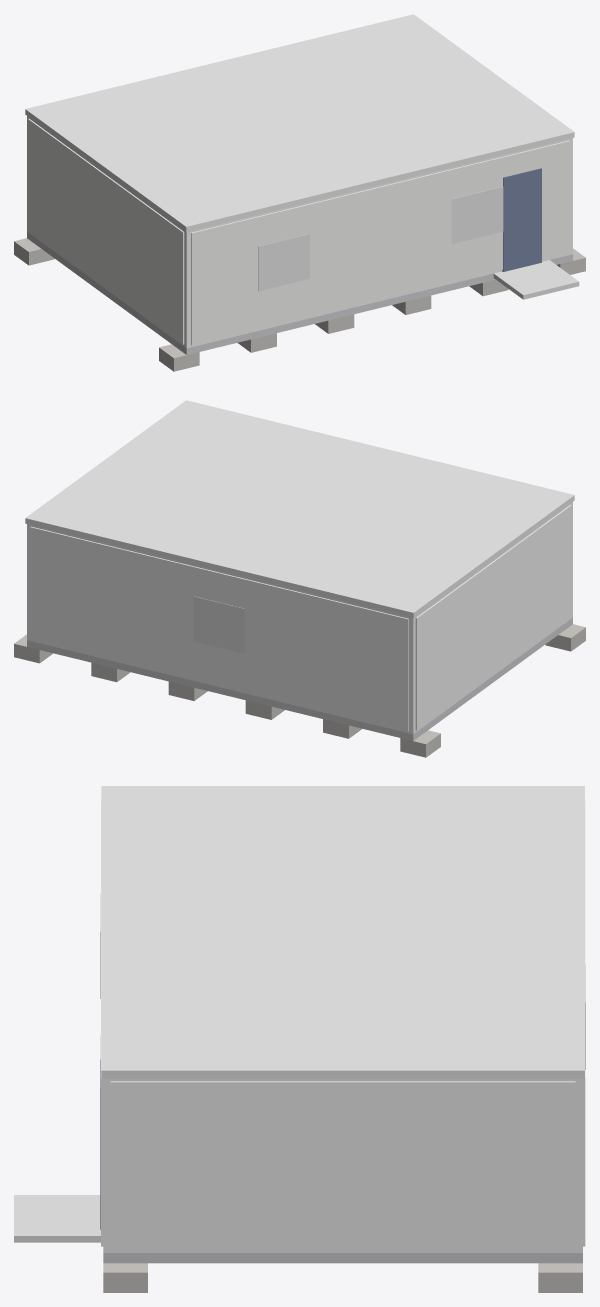
The model's file is Studio-30-Retirement-LOD0.glb.
3 renders of one model, top to bottom at view 1: azimuth 30°, elevation 25°; view 2: azimuth 150°, elevation 25°; view 3: azimuth 270°, elevation 25°, orthographic. The views are drawn at different scales.
Parts seen in each view (by area): view 1: RoofMain, ExteriorPanelsStandard, WindowsStandard, EntryDoor, FoundationBlocks, BaseFrame, ExteriorShell, AccessibilityRetirement; view 2: RoofMain, ExteriorPanelsStandard, BaseFrame, FoundationBlocks, ExteriorShell, WindowsStandard; view 3: RoofMain, ExteriorPanelsStandard, ExteriorShell, BaseFrame, AccessibilityRetirement, FoundationBlocks.
Part boxes in pixels (box(x1,y1,x2,y2)): RoofMain: box(25, 14, 574, 232); ExteriorPanelsStandard: box(28, 118, 569, 345); WindowsStandard: box(258, 186, 503, 291); EntryDoor: box(502, 168, 541, 271); FoundationBlocks: box(14, 238, 585, 371); BaseFrame: box(27, 232, 572, 354); ExteriorShell: box(27, 116, 572, 348); AccessibilityRetirement: box(493, 260, 579, 299); RoofMain: box(25, 400, 574, 618); ExteriorPanelsStandard: box(30, 504, 571, 731); BaseFrame: box(27, 618, 572, 740); FoundationBlocks: box(14, 624, 585, 757); ExteriorShell: box(27, 502, 572, 734); WindowsStandard: box(193, 596, 244, 653); RoofMain: box(101, 786, 584, 1078); ExteriorPanelsStandard: box(101, 801, 585, 1250); ExteriorShell: box(103, 1078, 582, 1252); BaseFrame: box(103, 1253, 582, 1263); AccessibilityRetirement: box(14, 1195, 100, 1242); FoundationBlocks: box(103, 1263, 582, 1292).
Bounding box in the file's own units: 9.6 × 3.17 × 7.69.
